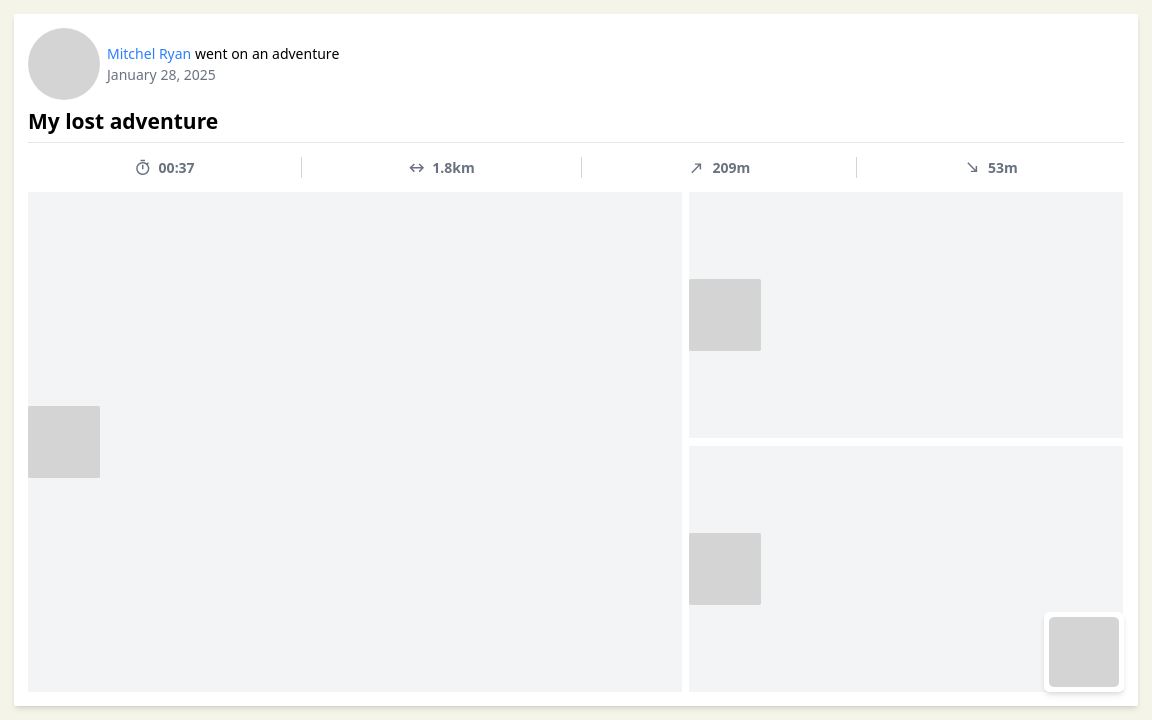
<ActivityCard/> › opens image gallery with correct image
What coordinates should you click on to do the following:
click the 3rd button named "Open adventure's media gallery"
I would click on:
 (725, 568)
Its box is x1=689 y1=446 x2=1124 y2=692.
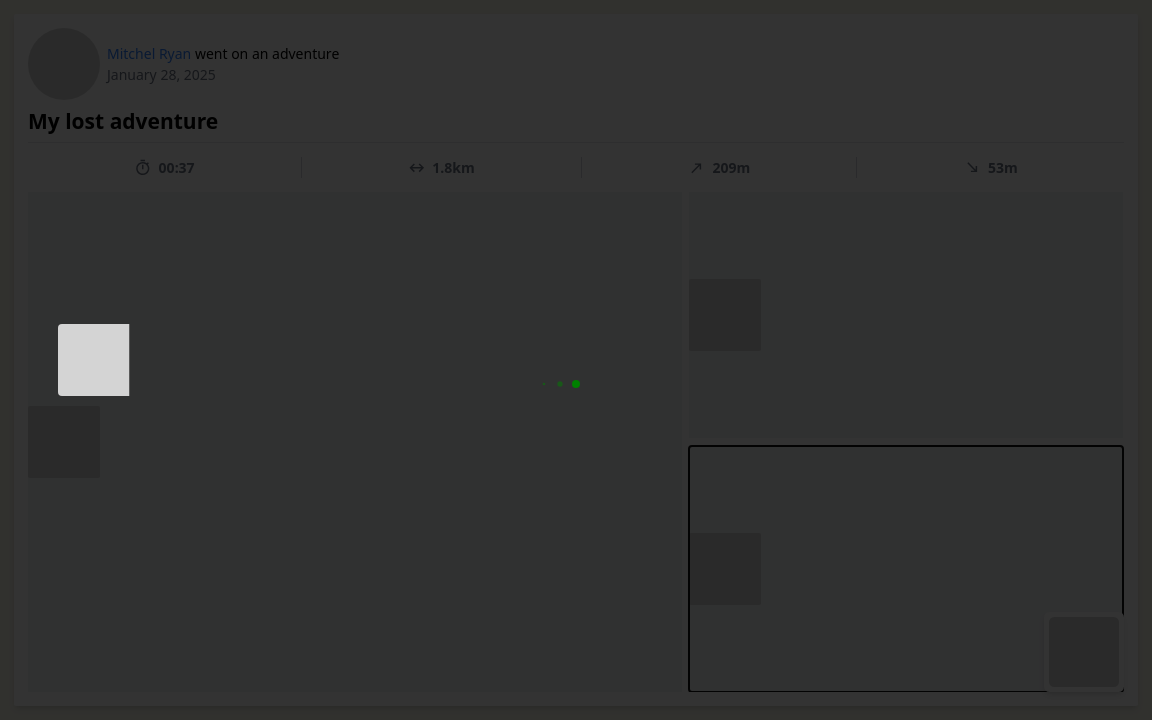
Check: the element with test id "image-gallery" is shown
